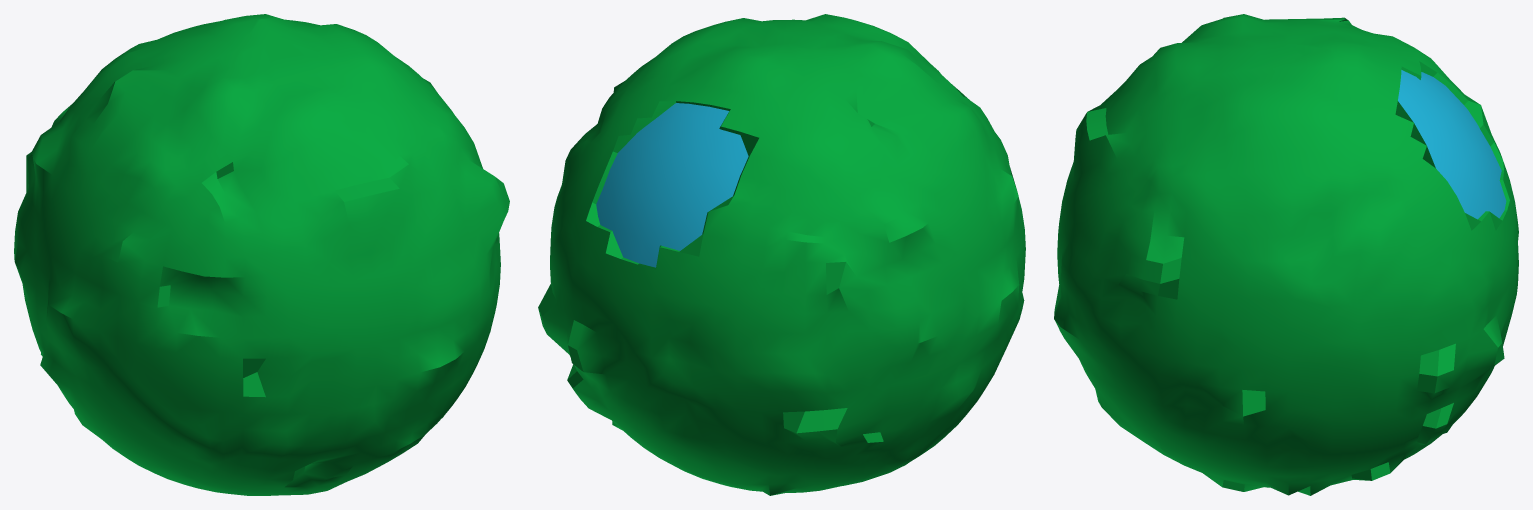
Rendered from Planet.fbx.
The picture shows the model from 3 angles, left to right: view 1: azimuth 30°, elevation 25°; view 2: azimuth 150°, elevation 25°; view 3: azimuth 270°, elevation 25°; orthographic projection.
Parts seen in each view (by area): view 1: Planet; view 2: Planet, Water; view 3: Planet, Water.
Boxes of the visible parts, x1=… form: Planet: x1=14, y1=14, x2=509, y2=495; Planet: x1=538, y1=14, x2=1025, y2=495; Water: x1=596, y1=103, x2=748, y2=267; Planet: x1=1054, y1=14, x2=1518, y2=495; Water: x1=1398, y1=70, x2=1506, y2=219.
Size of the model in its own units: 263 by 255 by 254.
